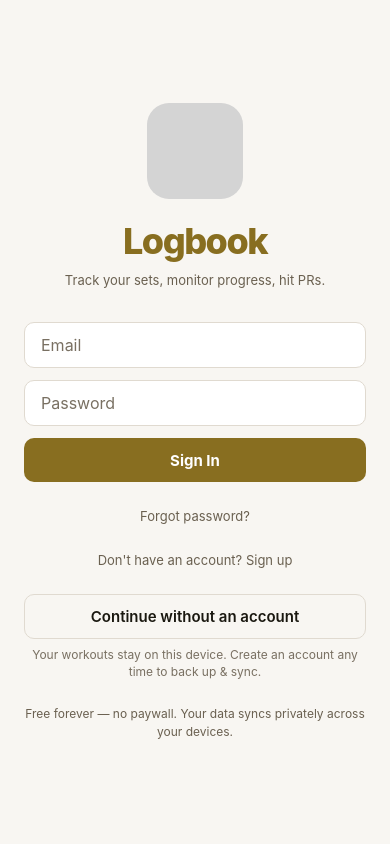
Scenario: AuthScreen › mode toggling › switches to sign-up mode when toggle is clicked
Click the button with class "authModeSwitch" at (195, 560), box [98,538,292,582]
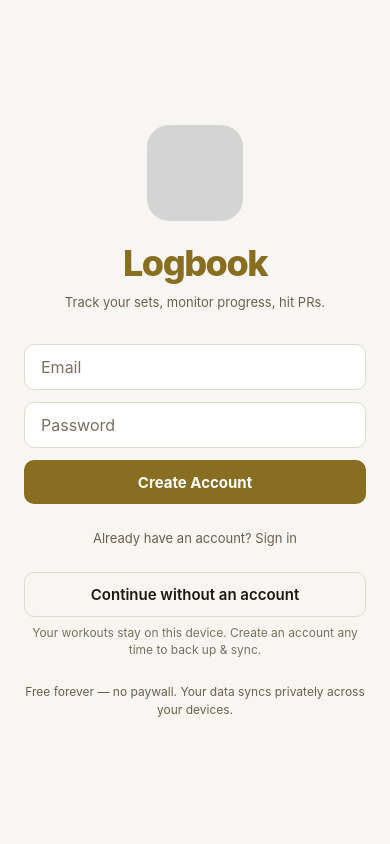
Expected: the button with class "authSubmitBtn" reads "Create Account", [24,460,366,504]
Expected: the button with class "authModeSwitch" shows "Already have an account", [93,516,297,560]
